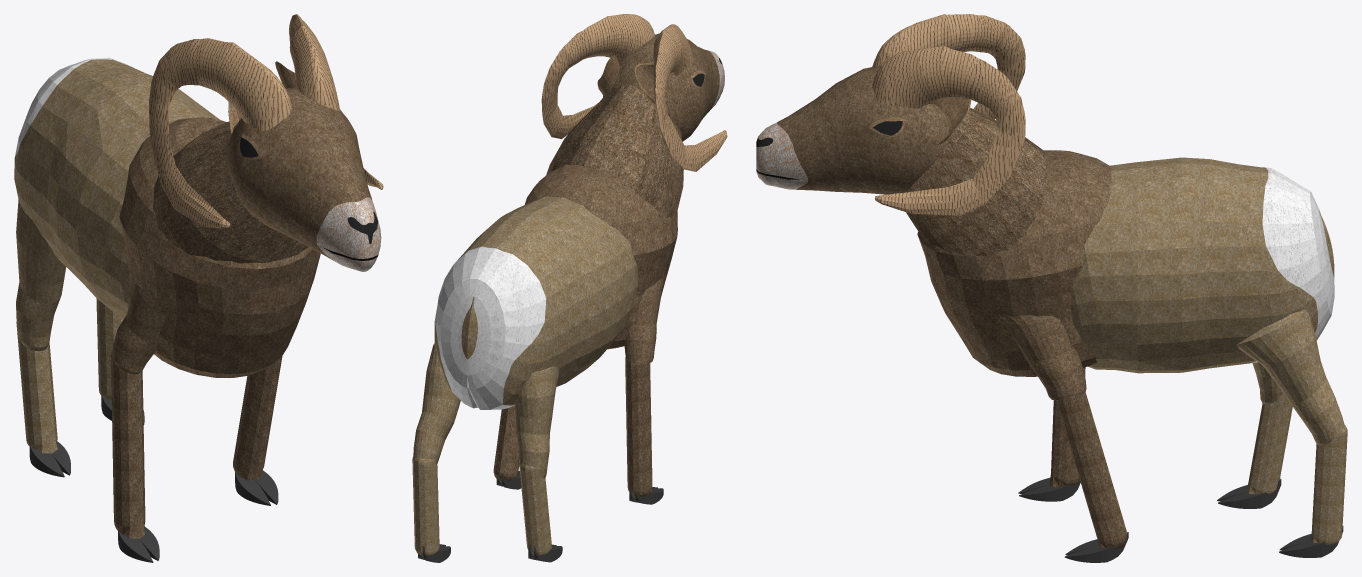
Rendered from Big horn sheep.dae.
3 renders of one model, left to right at view 1: azimuth 30°, elevation 25°; view 2: azimuth 150°, elevation 25°; view 3: azimuth 270°, elevation 25°, orthographic. The views are drawn at different scales.
Visible parts, largest first — view 1: Group22, Group2, Group5, Group16, Group17, Group15, Group30, Group27, Group18, Group23, Group11, Group3 (+3 smaller); view 2: Group22, Group17, Group2, Group11, Group5, Group16, Group15, Group30, Group10, Group3, Group18, Group23 (+4 smaller); view 3: Group22, Group2, Group5, Group11, Group17, Group10, Group16, Group27, Group4, Group3, Group18, Group15 (+3 smaller).
Part boxes in pixels (<box>): Group22: <box>14,57,219,318</box>; Group2: <box>119,117,320,377</box>; Group5: <box>226,87,381,271</box>; Group16: <box>149,38,291,228</box>; Group17: <box>153,121,308,263</box>; Group15: <box>111,351,145,538</box>; Group30: <box>16,198,66,351</box>; Group27: <box>233,356,282,480</box>; Group18: <box>16,322,57,453</box>; Group23: <box>112,284,169,374</box>; Group11: <box>289,14,383,189</box>; Group3: <box>96,298,123,401</box>; Group22: <box>434,196,637,409</box>; Group17: <box>546,84,683,218</box>; Group2: <box>525,164,677,349</box>; Group11: <box>541,14,654,138</box>; Group5: <box>603,33,724,141</box>; Group16: <box>652,24,727,171</box>; Group15: <box>625,357,652,498</box>; Group30: <box>514,366,559,478</box>; Group10: <box>413,343,460,463</box>; Group3: <box>412,456,439,556</box>; Group18: <box>519,462,551,555</box>; Group23: <box>624,275,665,363</box>; Group22: <box>1070,157,1334,373</box>; Group2: <box>917,150,1111,376</box>; Group5: <box>756,66,948,194</box>; Group11: <box>872,46,1025,215</box>; Group17: <box>905,107,1046,257</box>; Group10: <box>1237,309,1344,445</box>; Group16: <box>872,14,1025,119</box>; Group27: <box>1056,392,1127,549</box>; Group4: <box>999,315,1086,400</box>; Group3: <box>1310,424,1347,544</box>; Group18: <box>1246,394,1292,494</box>; Group15: <box>1049,367,1085,487</box>.
Size of the model in its own units: 29.21 by 94.18 by 87.22.
10 materials, 6 textured.
